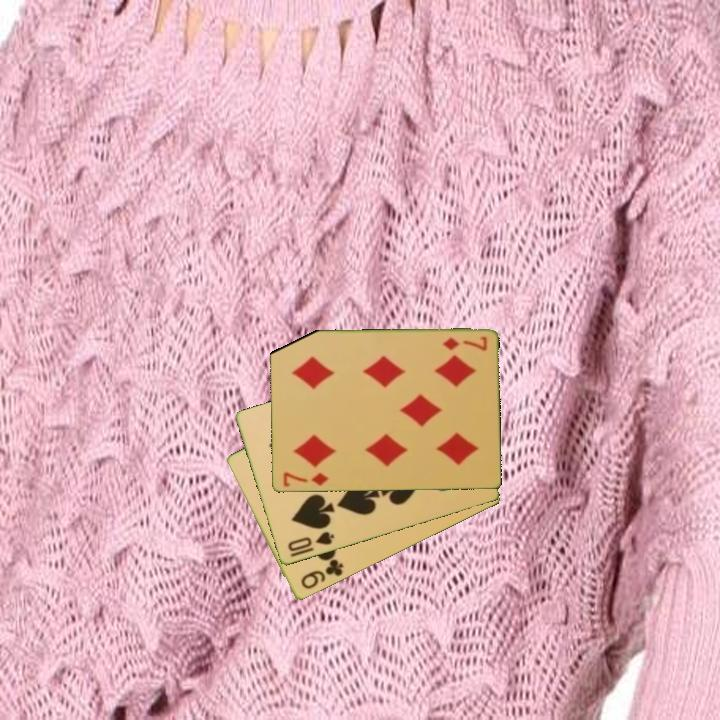10s: (284, 528, 337, 560)
7d: (280, 469, 331, 490), (439, 333, 489, 354)
9c: (297, 556, 346, 593)
